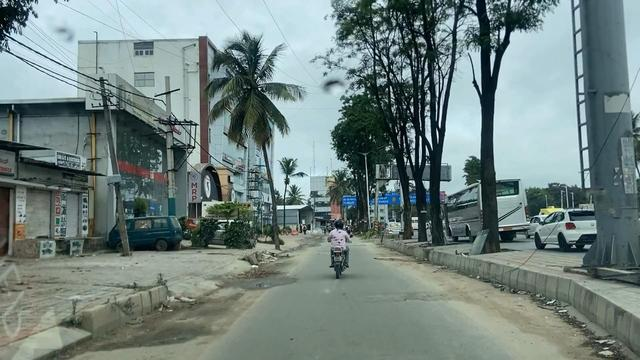LMV: (329, 219, 349, 272)
RoadDamages: (109, 319, 216, 354), (370, 281, 483, 314), (241, 263, 295, 298)
